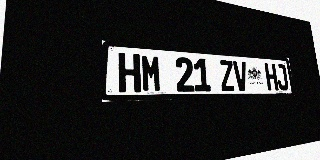1: (193, 58, 211, 91)
2: (175, 57, 194, 92)
H: (118, 53, 141, 92), (264, 63, 279, 90)
J: (275, 64, 289, 90)
M: (141, 54, 162, 92)
V: (233, 61, 249, 91)
Z: (219, 60, 235, 91)
